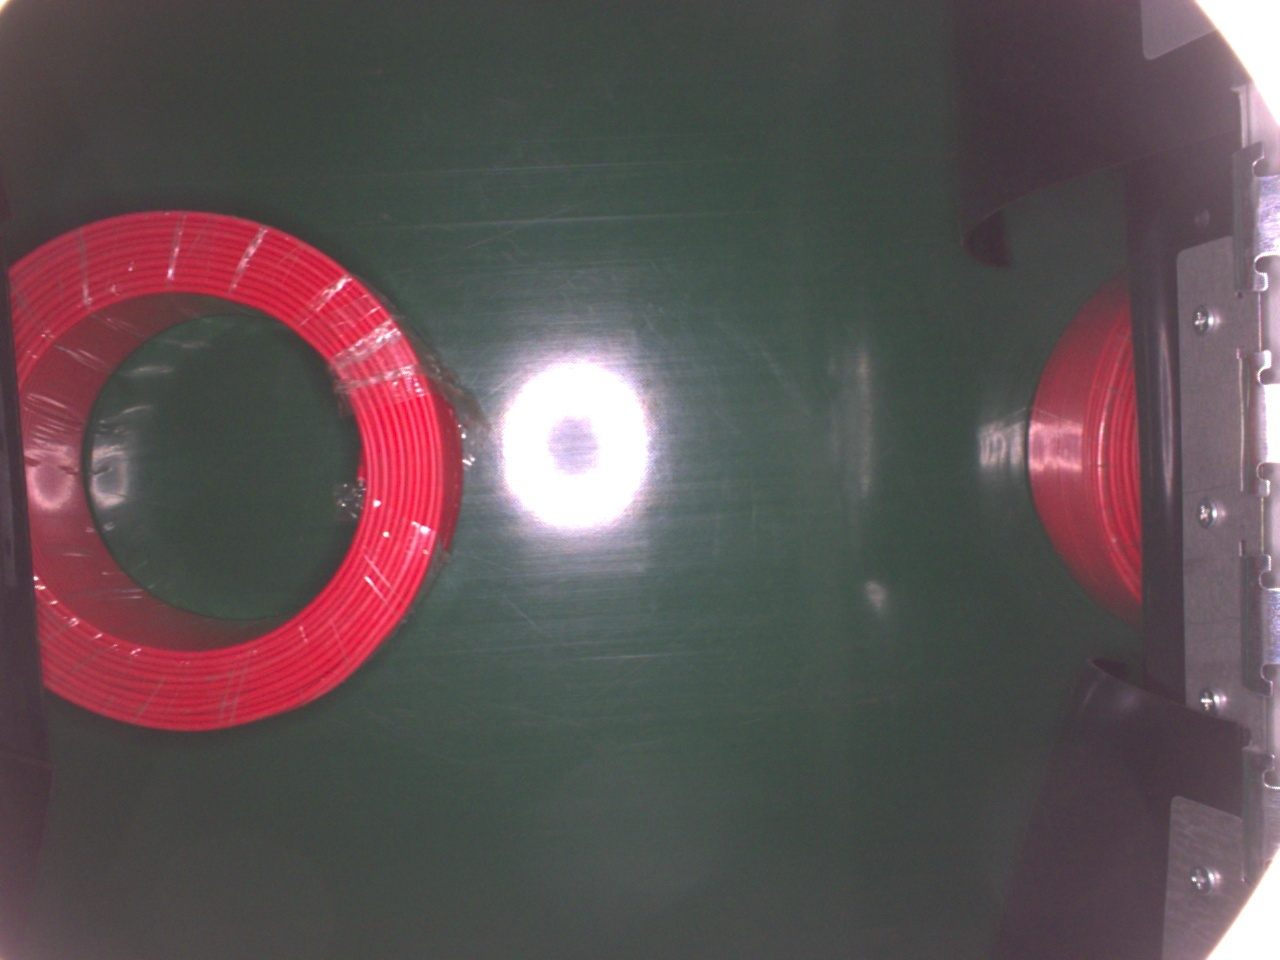red: (5, 206, 456, 735), (1028, 266, 1147, 622)
